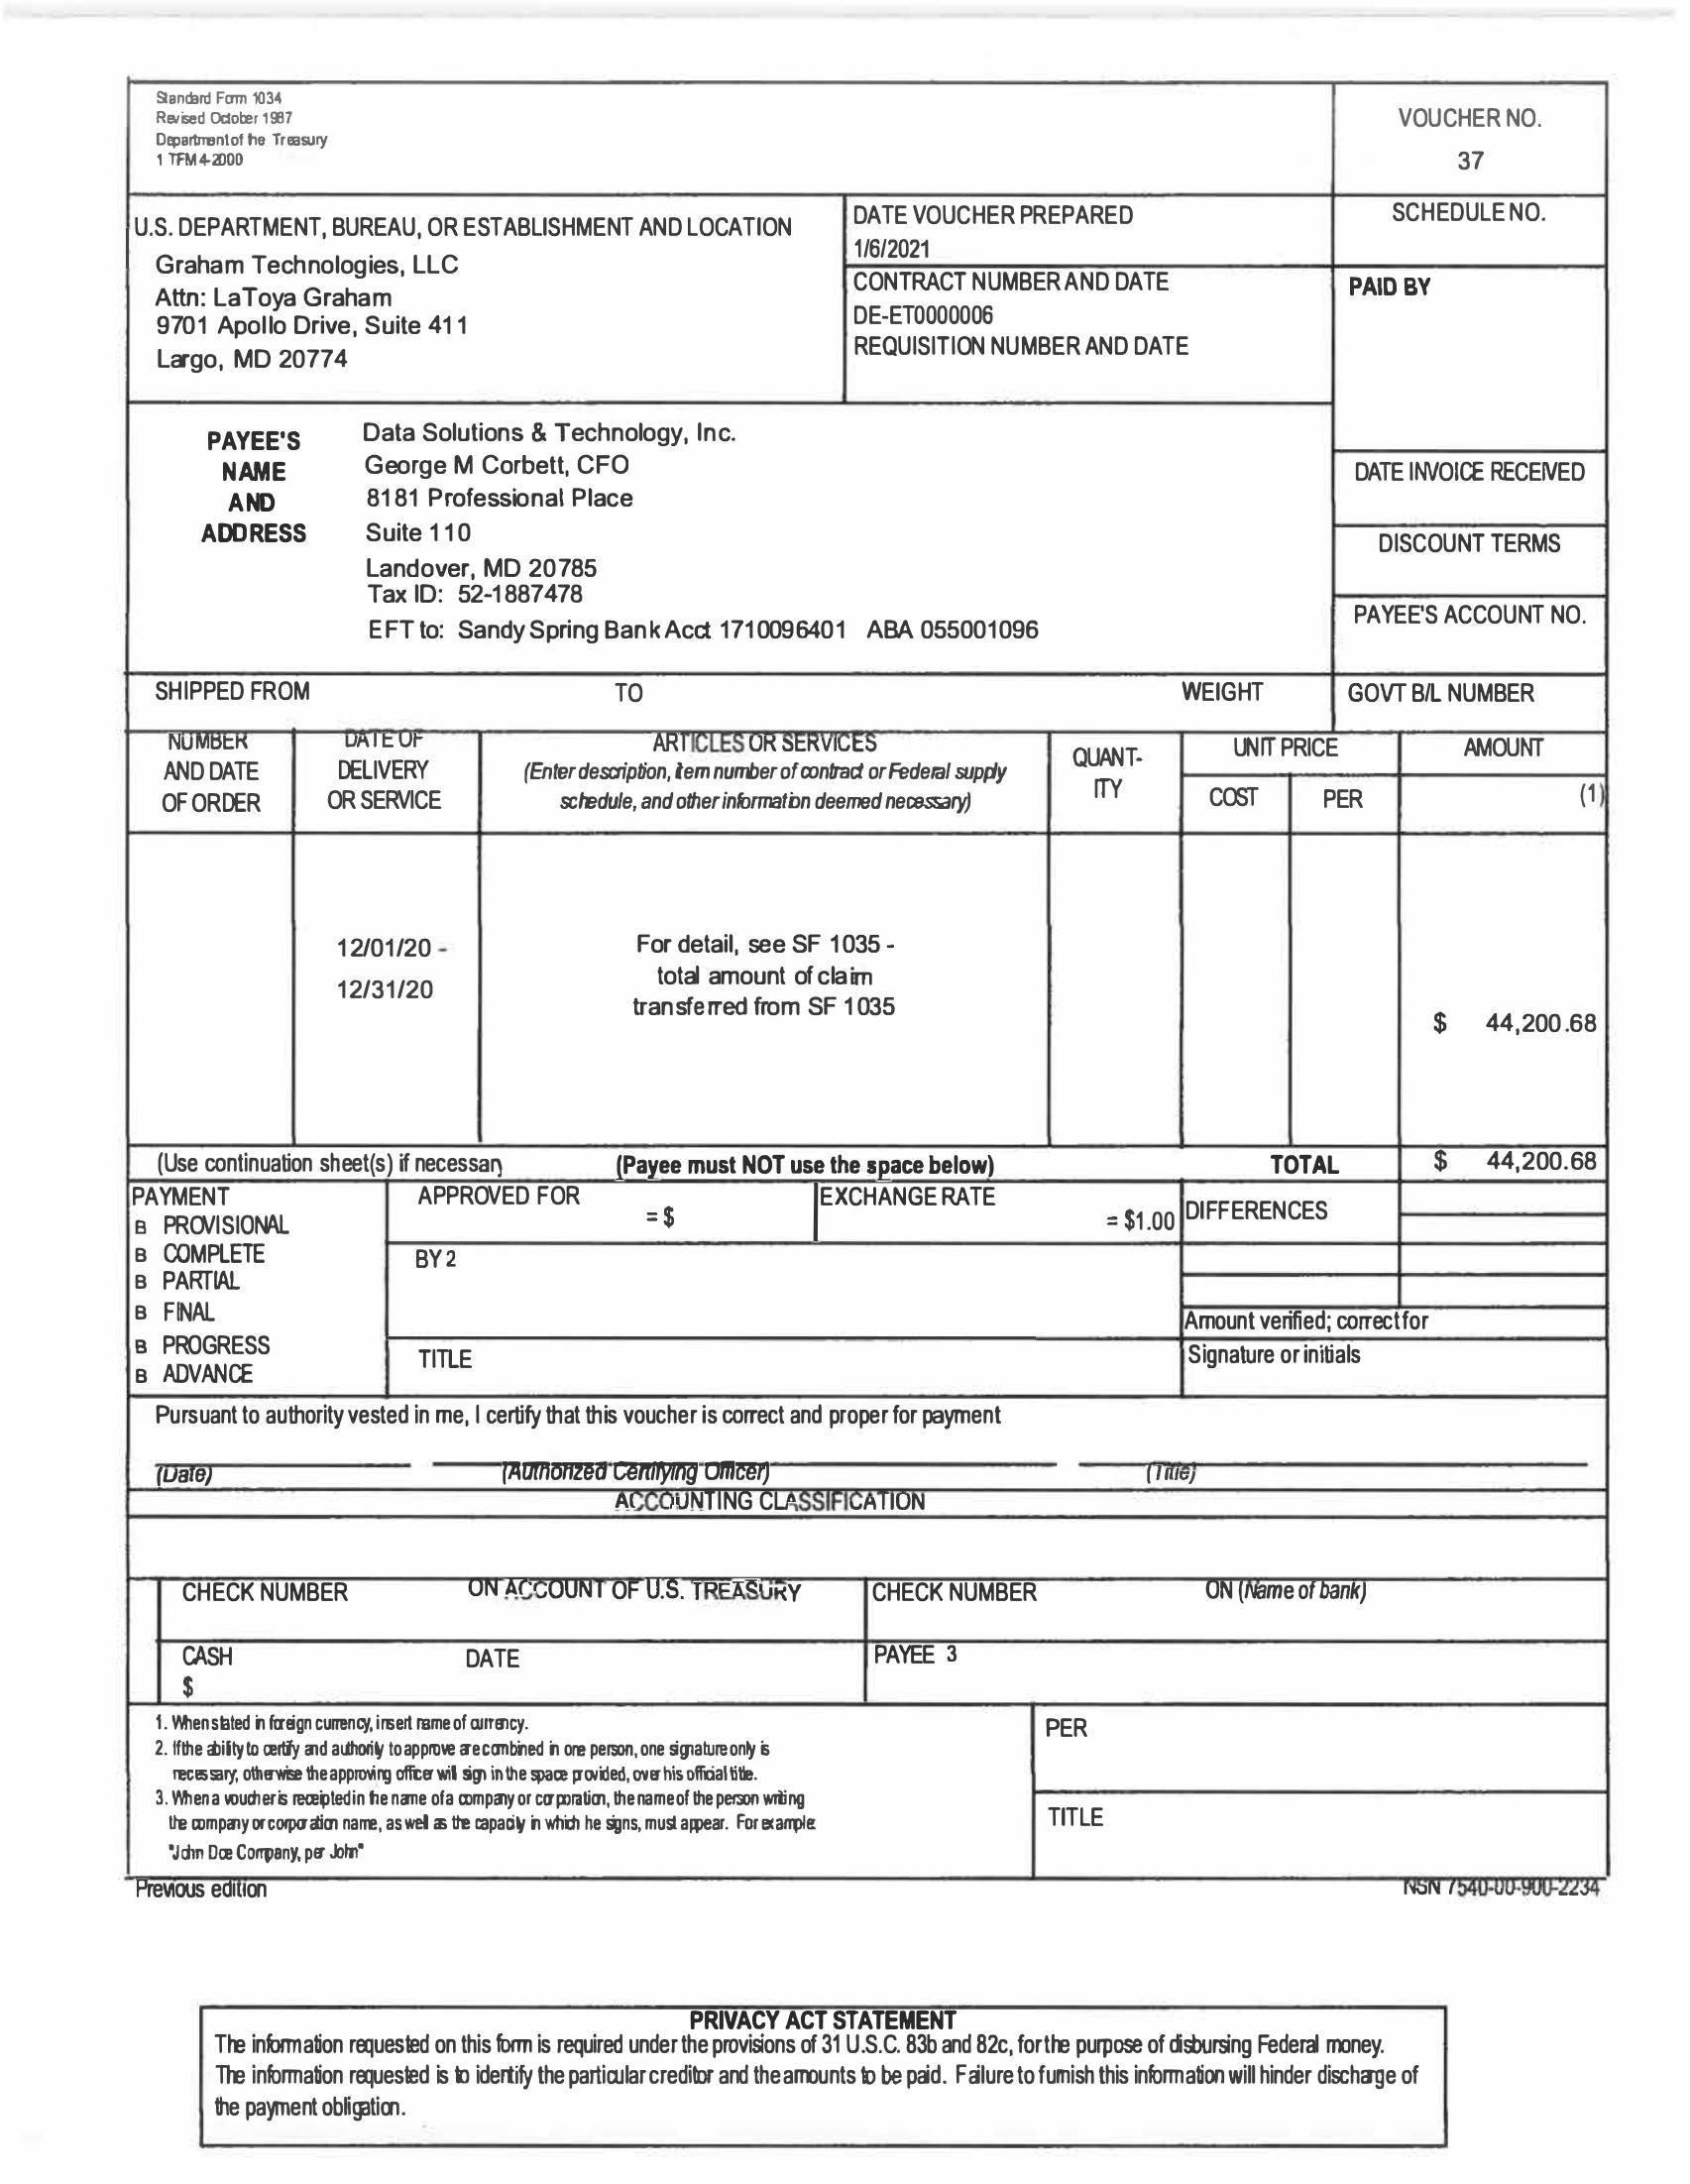table: (121, 718, 1617, 1135)
